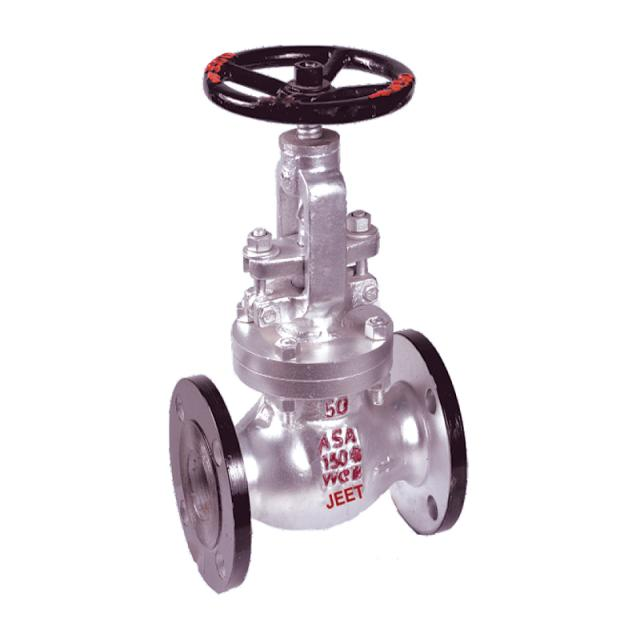Wheel Handle Valve Threaded: (162, 24, 447, 147)
